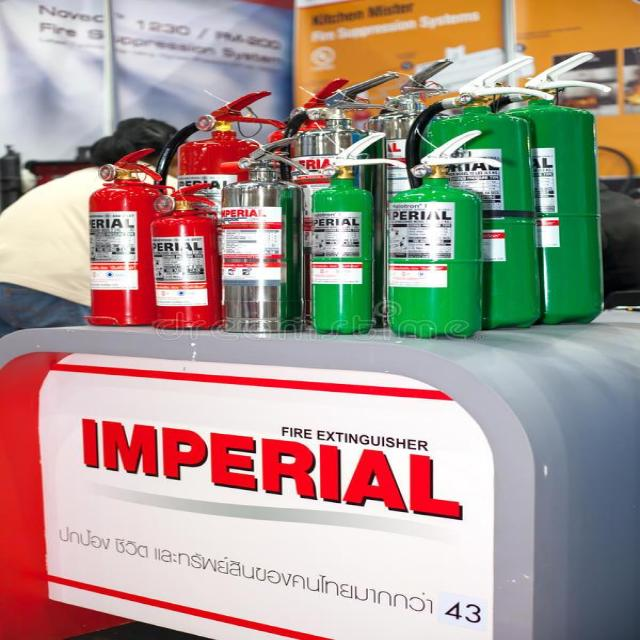fire_extinguisher: (442, 46, 619, 332), (396, 50, 555, 335), (148, 87, 295, 321), (254, 75, 364, 326), (380, 123, 502, 337), (204, 134, 320, 336), (298, 127, 408, 340), (79, 140, 179, 331), (134, 175, 238, 333)
